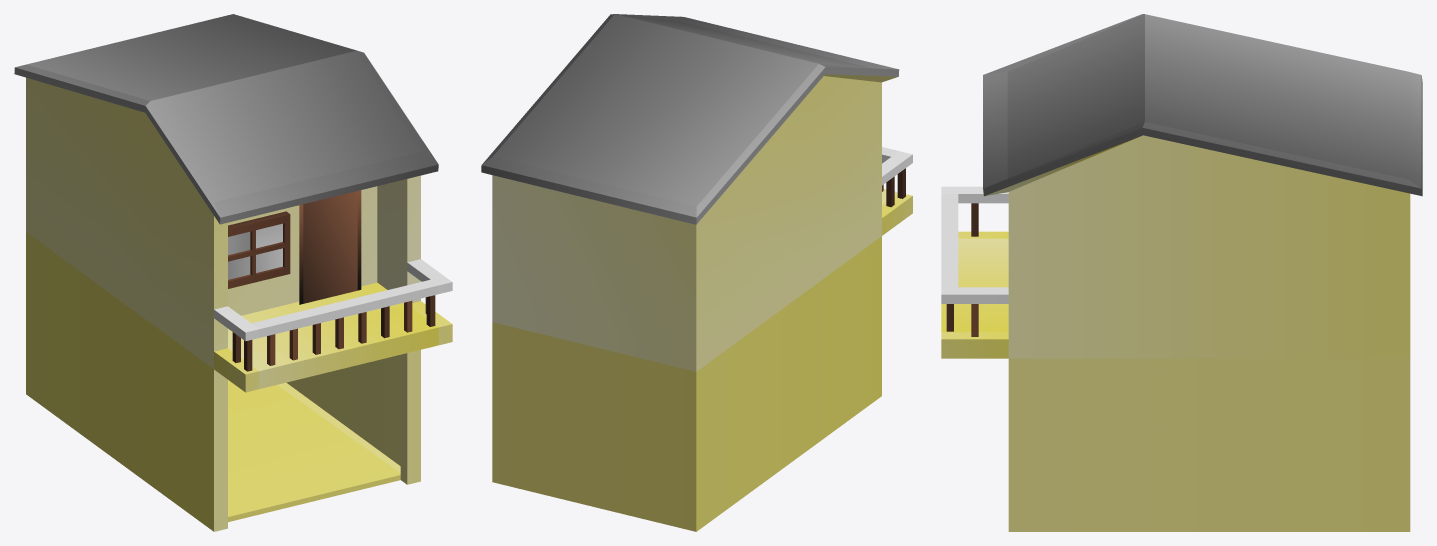
File: SM_Street_House_F2_open.fbx
3 views of the same model, side by side, from view 1: azimuth 30°, elevation 25°; view 2: azimuth 150°, elevation 25°; view 3: azimuth 270°, elevation 25° (orthographic). The views are drawn at different scales.
Visible parts, largest first — view 1: Street_House_F2_open_mash, Street_House_F1_Open_mash; view 2: Street_House_F2_open_mash, Street_House_F1_Open_mash; view 3: Street_House_F2_open_mash, Street_House_F1_Open_mash.
Part boxes in pixels (bbox=[...]): Street_House_F2_open_mash: bbox=[14, 14, 452, 392]; Street_House_F1_Open_mash: bbox=[26, 232, 420, 531]; Street_House_F2_open_mash: bbox=[481, 14, 912, 371]; Street_House_F1_Open_mash: bbox=[492, 236, 881, 531]; Street_House_F2_open_mash: bbox=[941, 14, 1422, 358]; Street_House_F1_Open_mash: bbox=[1008, 358, 1410, 531].
Bounding box in the file's own units: 4.22 × 7.09 × 7.54.
